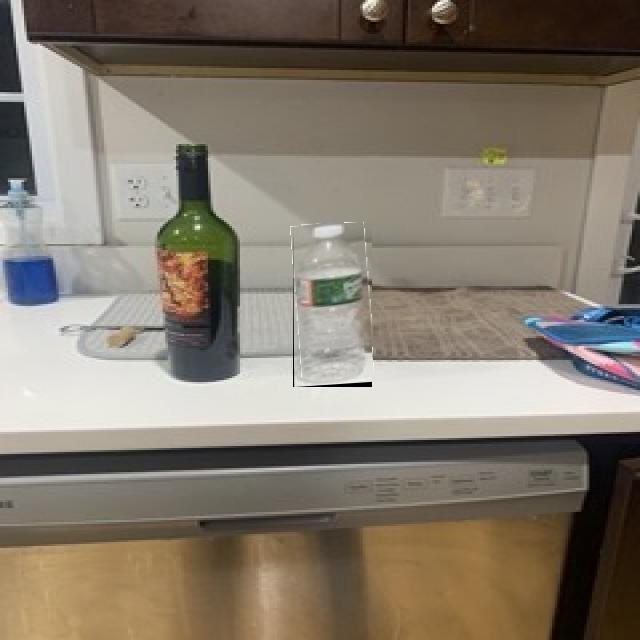water_bottle: (293, 223, 372, 387)
